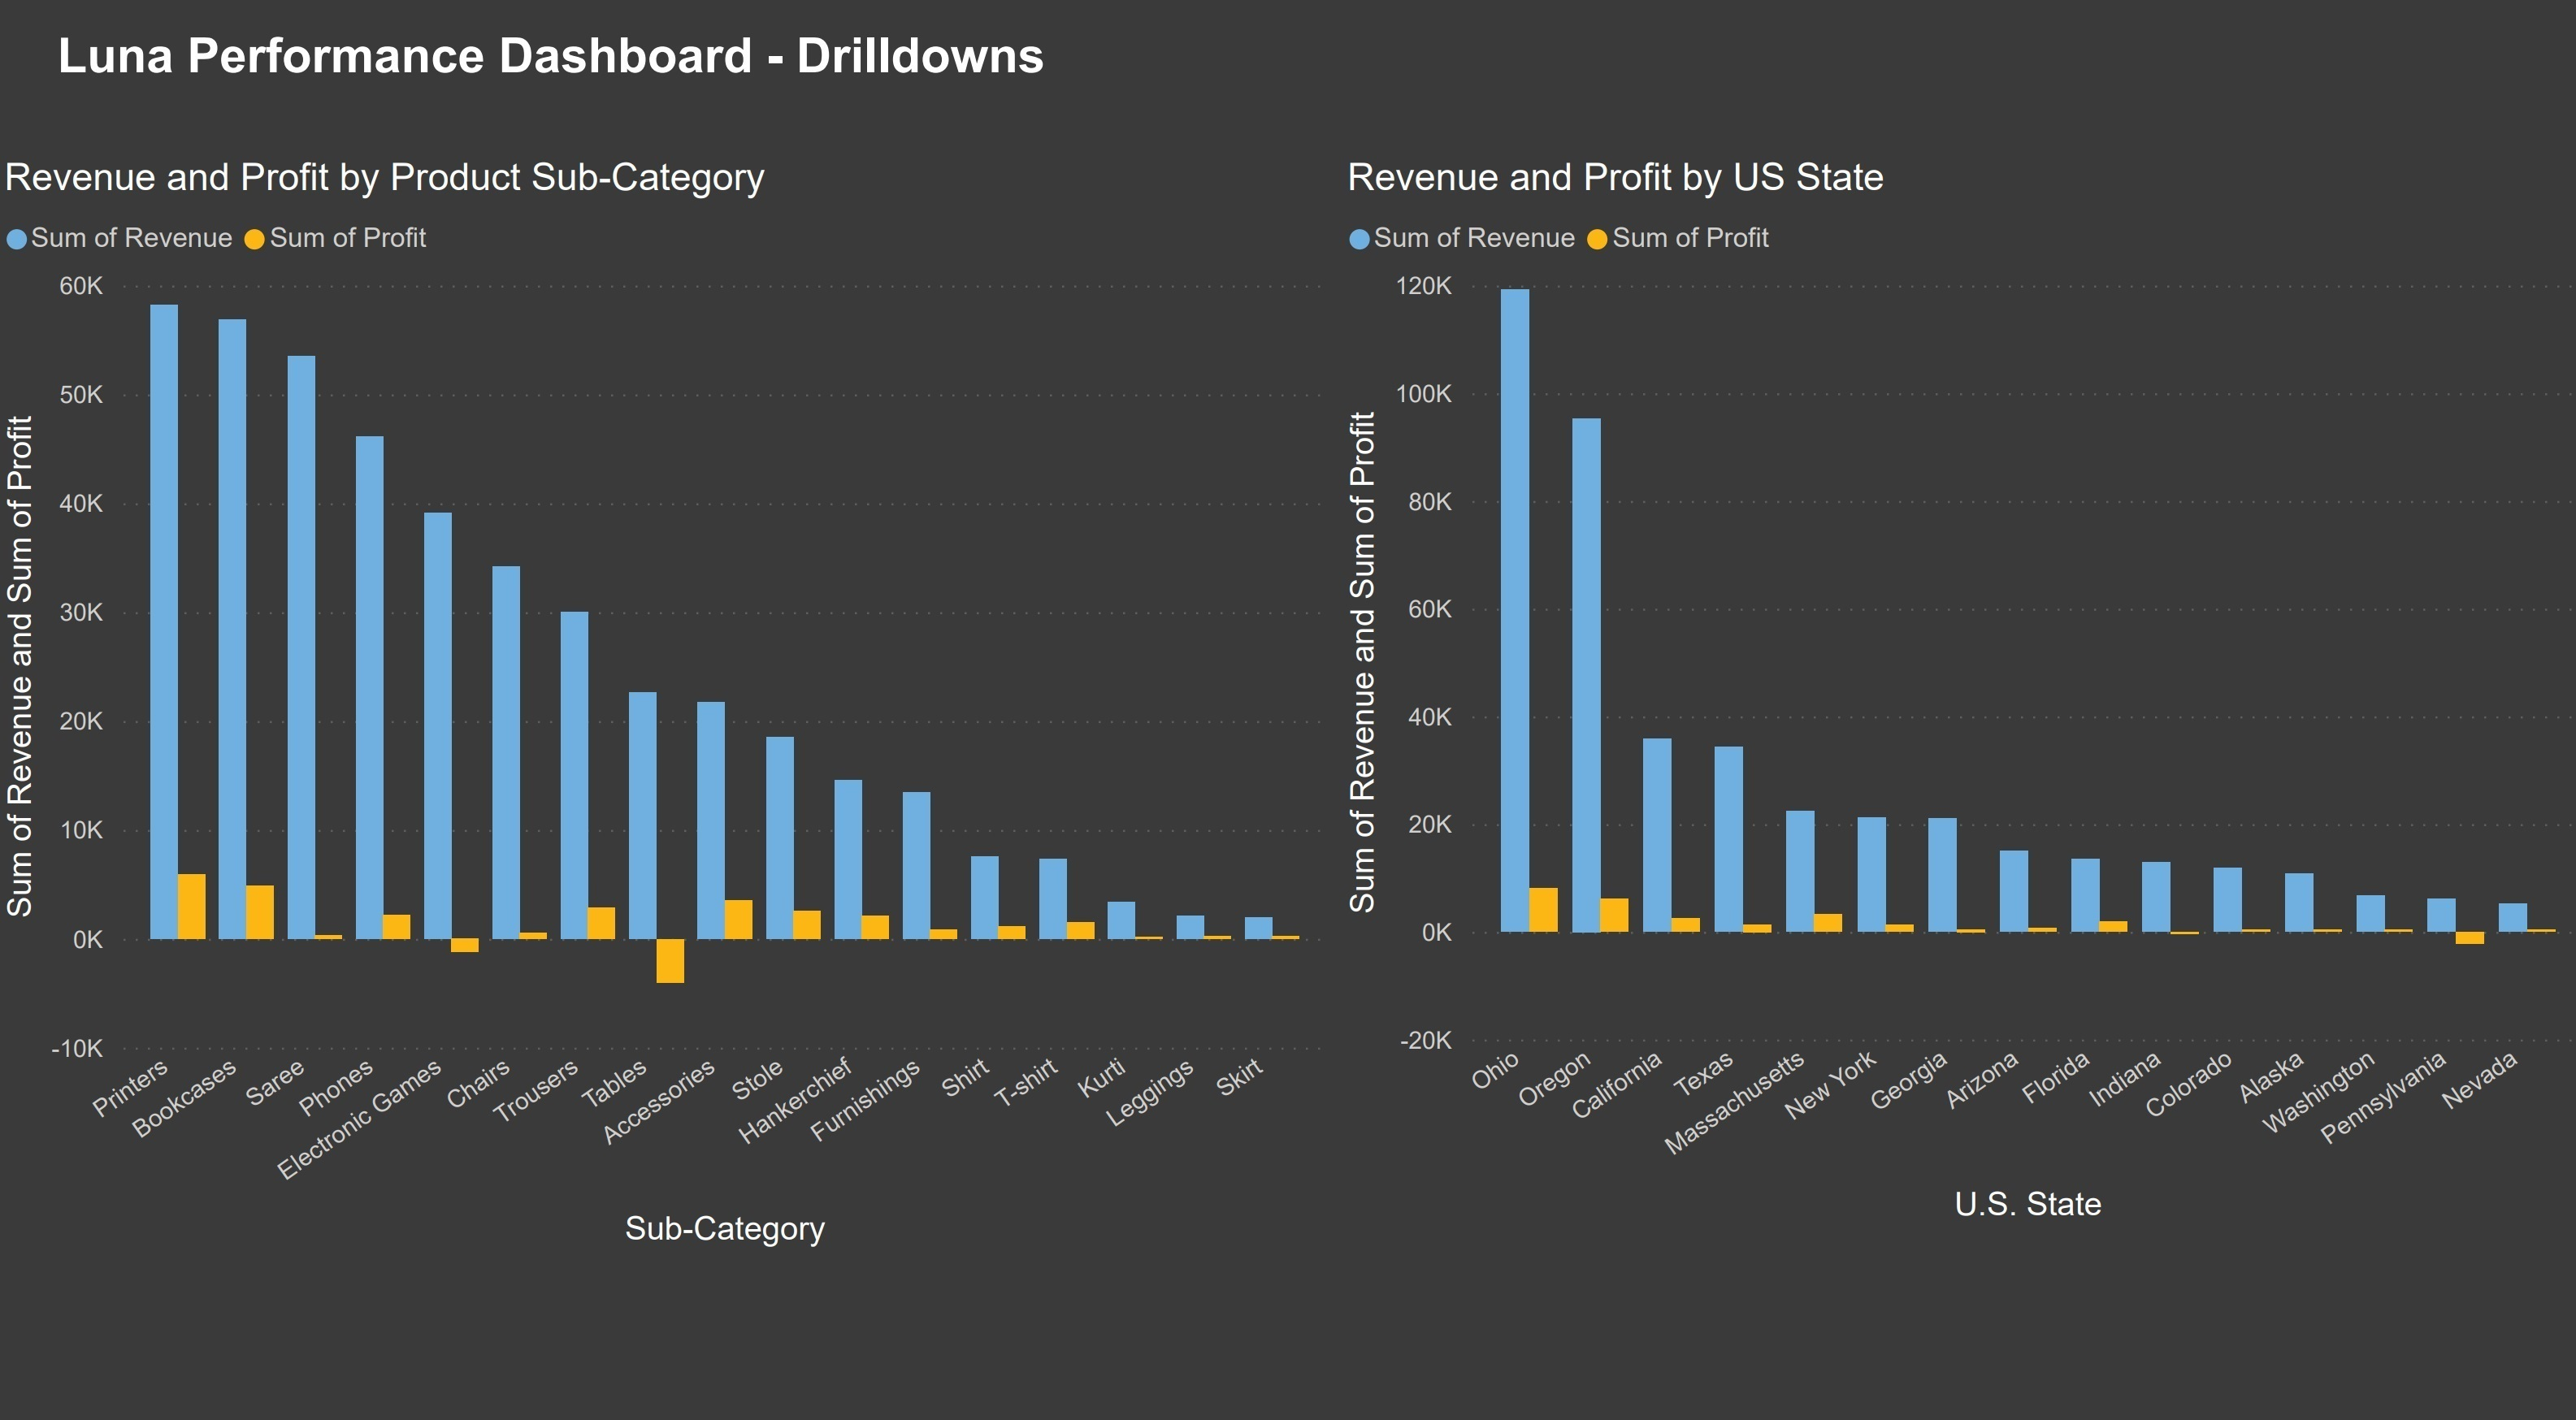

This screenshot's page, from the dashboard's own definition file:
{"tool":"powerbi","page":{"name":"Drill Downs","canvas":[1280,720],"ordinal":1},"visuals":[{"type":"clusteredColumnChart","title":"Revenue and Profit by Product Sub-Category","fields":{"Category":["Order Details.Sub-Category"],"Y":["Sum(Order Details.Revenue)","Sum(Order Details.Profit)"]},"box":[0,78.6,661.4,542.9],"z":0},{"type":"textbox","box":[25.7,11.4,497.1,41.4],"z":1000},{"type":"clusteredColumnChart","title":"Revenue and Profit by US State","fields":{"Y":["Sum(Order Details.Revenue)","Sum(Order Details.Profit)"],"Category":["Order Details.U.S. State"]},"box":[661.4,78.6,618.6,530],"z":2000}]}

Visuals, with their boxes in screenshot pixels (x1, y1, x2, y2), scaled from the page's 1280x720 canvas onto the 2576x1420 screenshot:
"Revenue and Profit by Product Sub-Category" clusteredColumnChart: rect(0, 155, 1331, 1226)
textbox: rect(52, 23, 1052, 104)
"Revenue and Profit by US State" clusteredColumnChart: rect(1331, 155, 2575, 1201)
